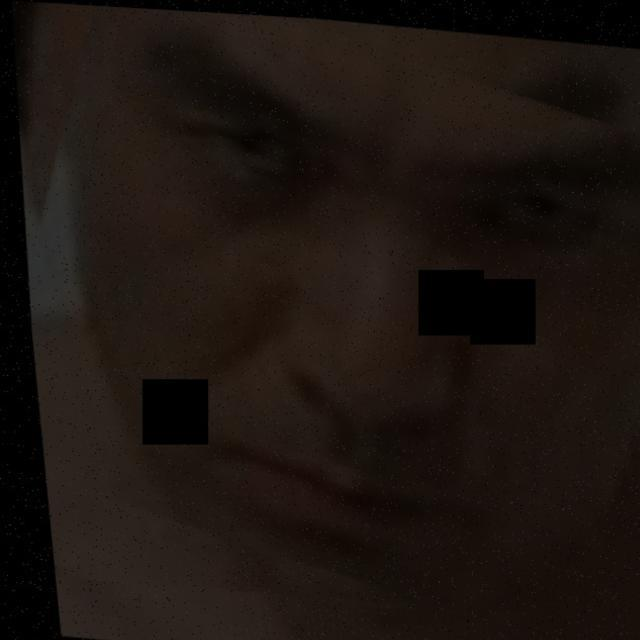Angry: (69, 10, 640, 587)
